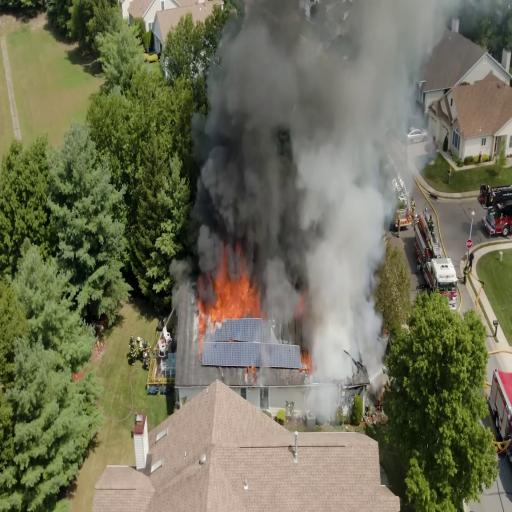fire: (195, 241, 268, 316)
smoke: (305, 77, 377, 337), (202, 17, 294, 217)
